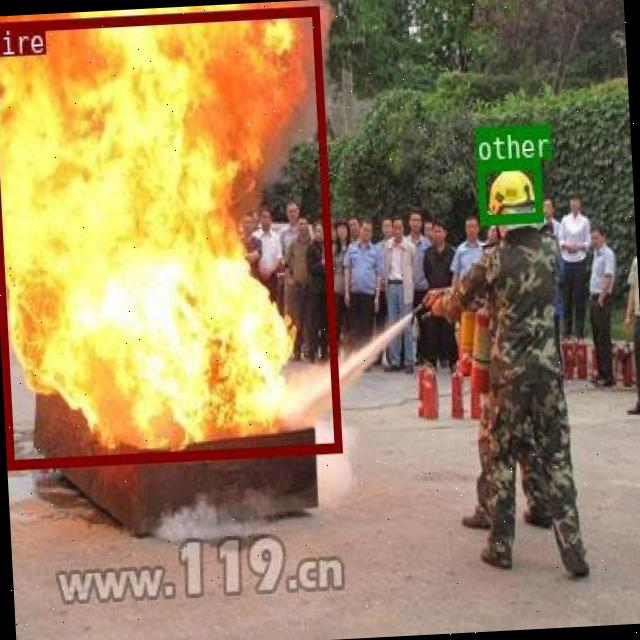fire: (0, 5, 340, 468)
